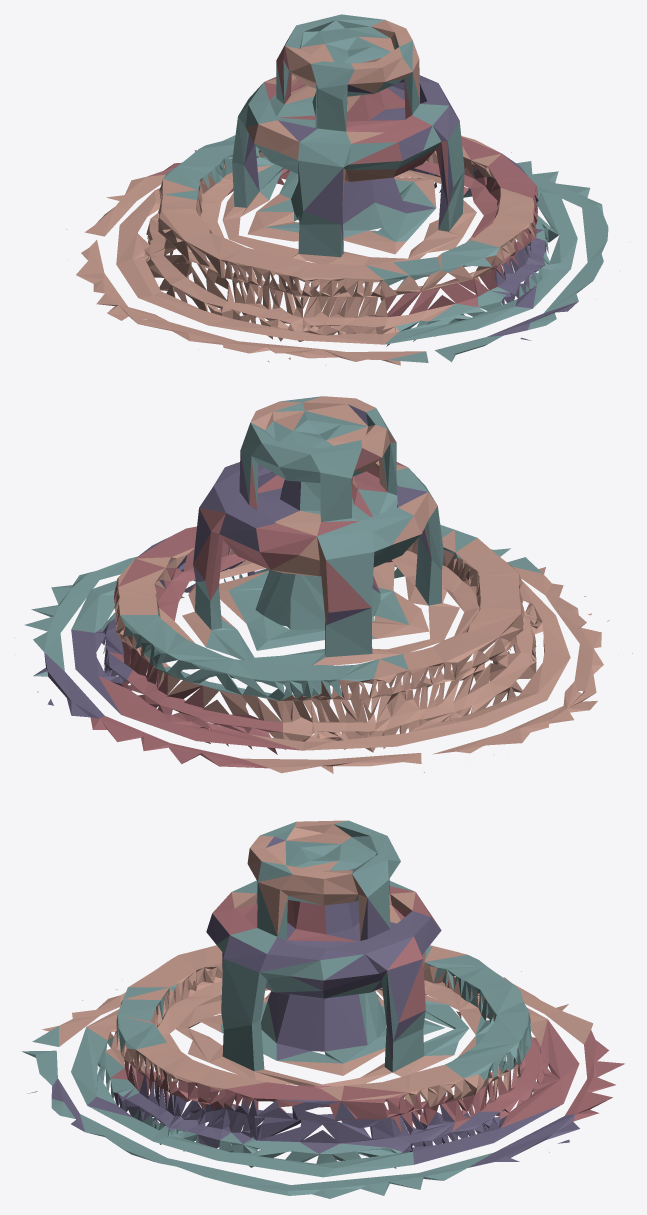
File: fountain.glb
The picture shows the model from 3 angles, top to bottom: view 1: azimuth 30°, elevation 25°; view 2: azimuth 150°, elevation 25°; view 3: azimuth 270°, elevation 25°; orthographic projection. The views are drawn at different scales.
Parts seen in each view (by area): view 1: geometry_0; view 2: geometry_0; view 3: geometry_0.
Boxes of the visible parts, box(x1,y1,x2,y2) form: geometry_0: box(66, 14, 608, 365); geometry_0: box(14, 396, 632, 773); geometry_0: box(22, 820, 624, 1198).
Size of the model in its own units: 1.95 by 0.8279 by 1.97.
